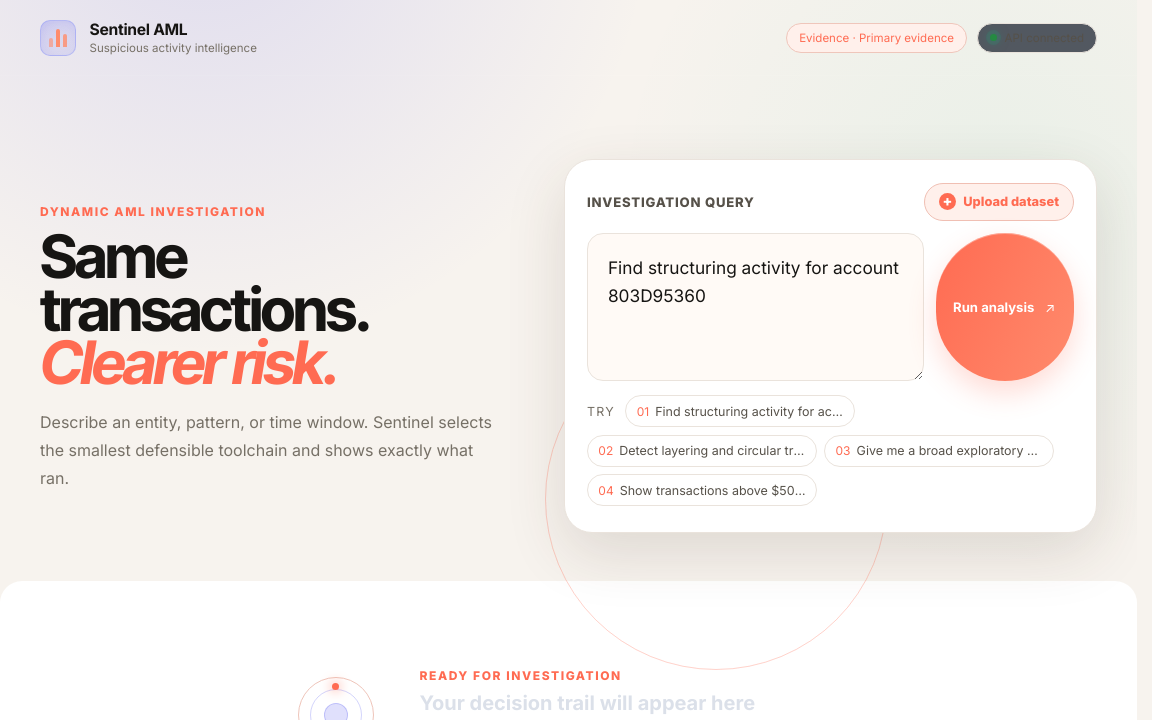
Test: Command center analyst workflow › shows a safe failure state without erasing the analyst query
The image size is (1164, 720).
Replace the text in the text box labelled "Investigation query" with "Find layering" at (755, 307), box [587, 233, 924, 381]
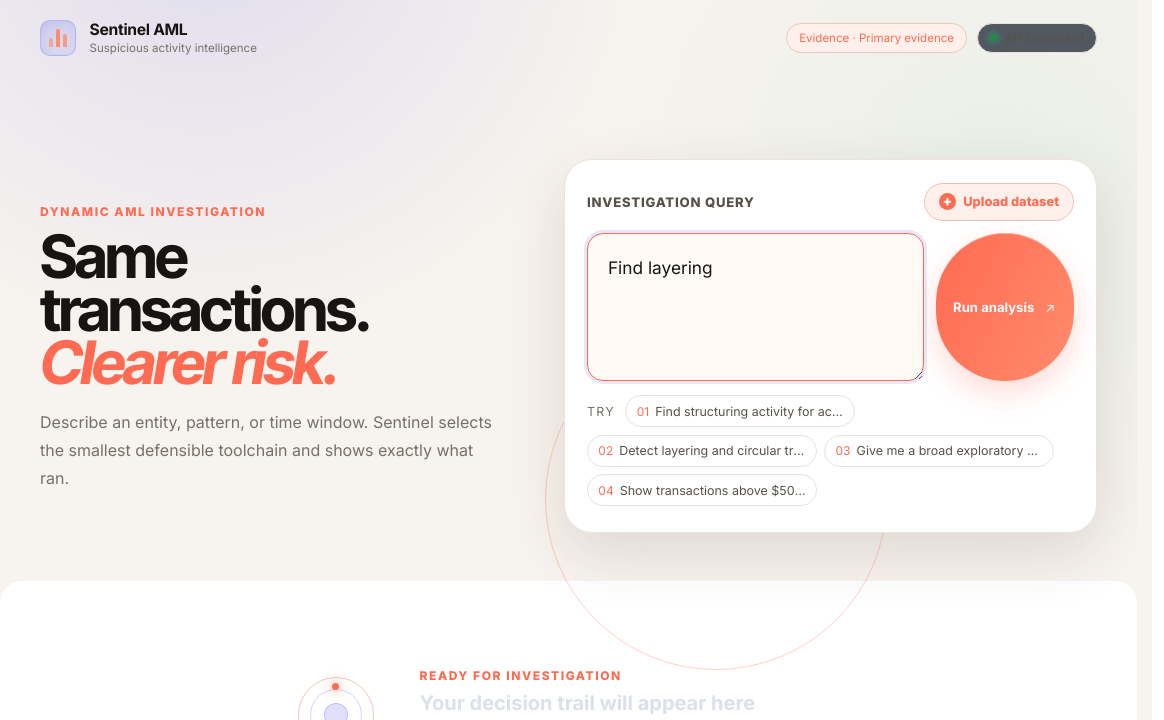
Click the button "Run analysis ↗" at (1005, 307), box [936, 233, 1074, 381]
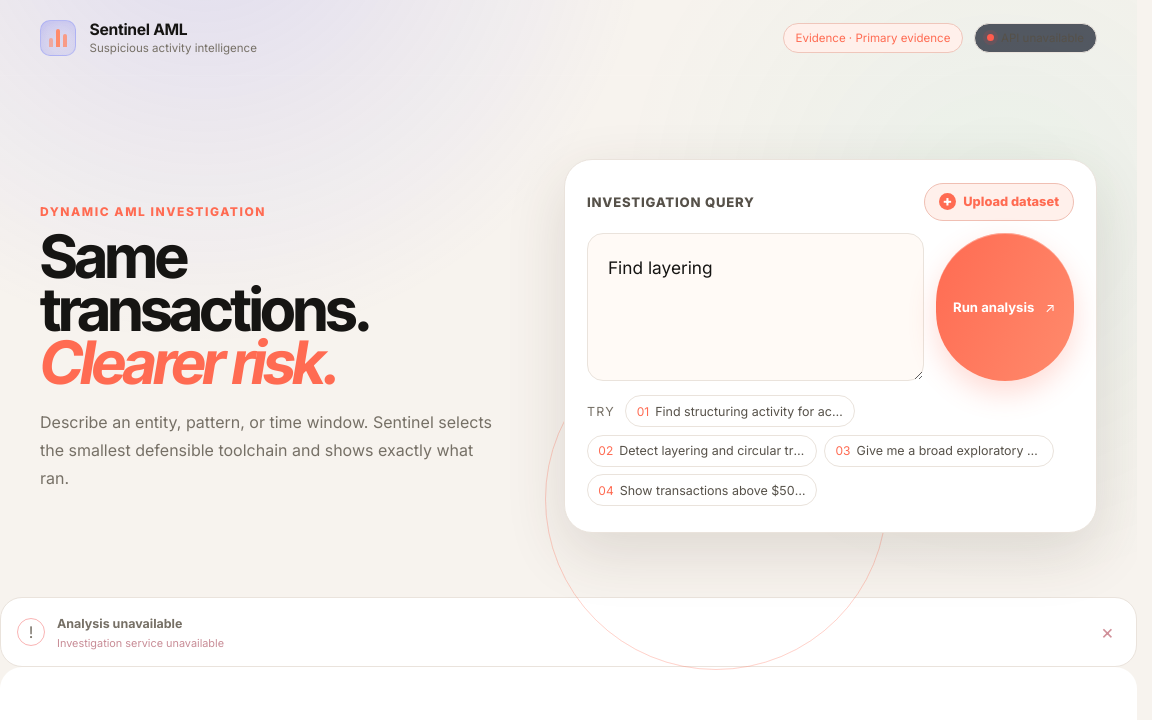
Expected: the message shows "Investigation service unavailable", [57, 636, 224, 650]
